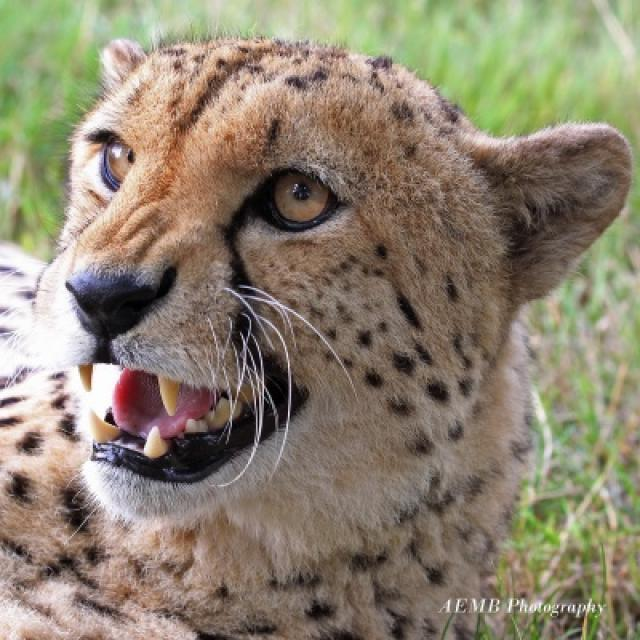Cheetah: (0, 37, 634, 638)
